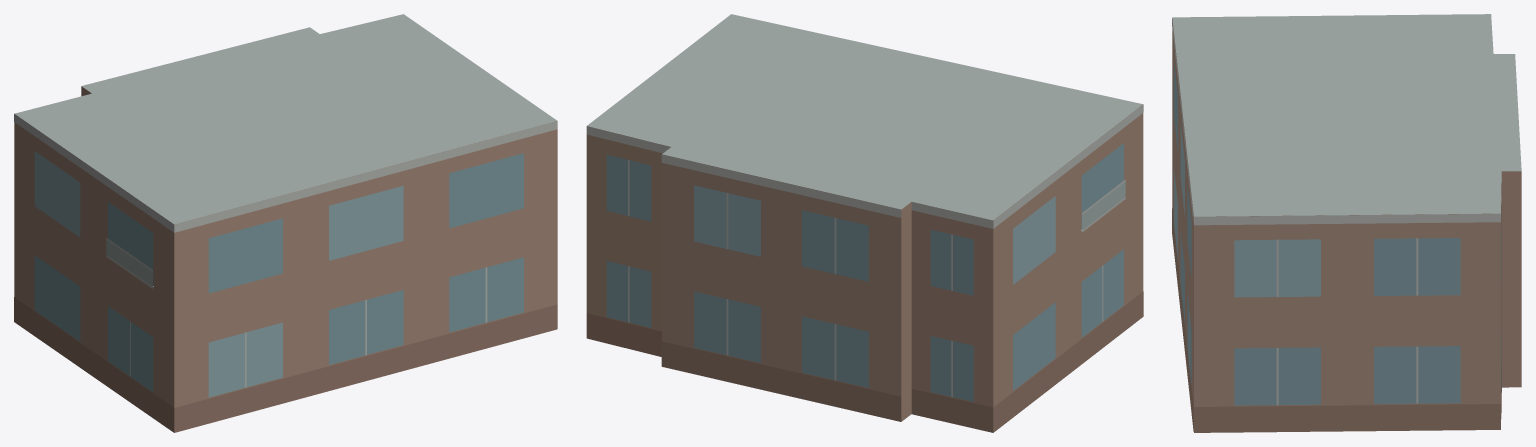
Rendered from survey-upis-32657666.glb.
3 renders of one model, left to right at view 1: azimuth 30°, elevation 25°; view 2: azimuth 150°, elevation 25°; view 3: azimuth 270°, elevation 25°, orthographic. The views are drawn at different scales.
Visible parts, largest first — view 1: survey-upis-32657666.tmp; view 2: survey-upis-32657666.tmp; view 3: survey-upis-32657666.tmp.
Boxes of the visible parts, box(x1,y1,x2,y2) form: survey-upis-32657666.tmp: box(14, 14, 557, 432); survey-upis-32657666.tmp: box(586, 14, 1143, 432); survey-upis-32657666.tmp: box(1172, 14, 1521, 432).
Bounding box in the file's own units: 12.27 × 6.1 × 8.95.
